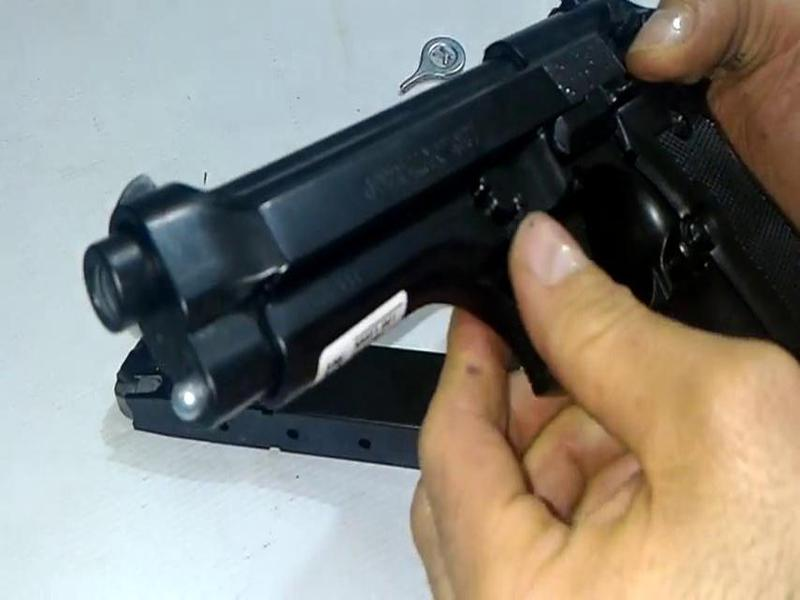Pistola: (25, 1, 787, 469)
